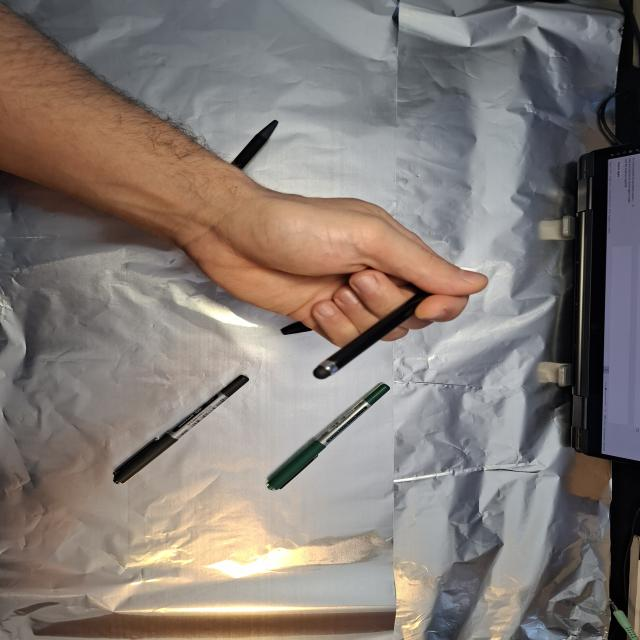glove_off: (169, 192, 491, 351)
